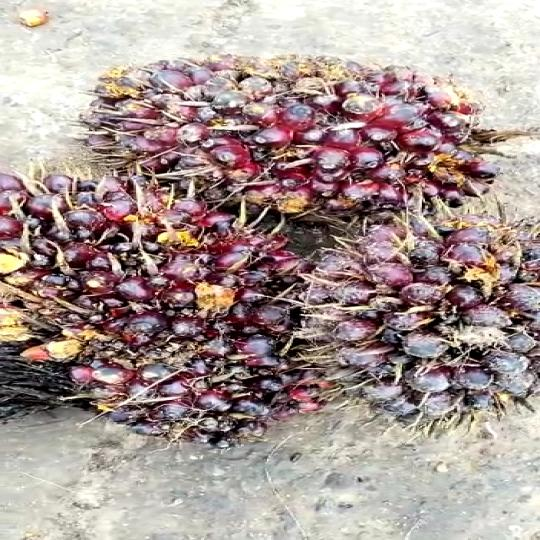kurang masak: (0, 164, 298, 444), (74, 62, 483, 226), (270, 197, 540, 428)
